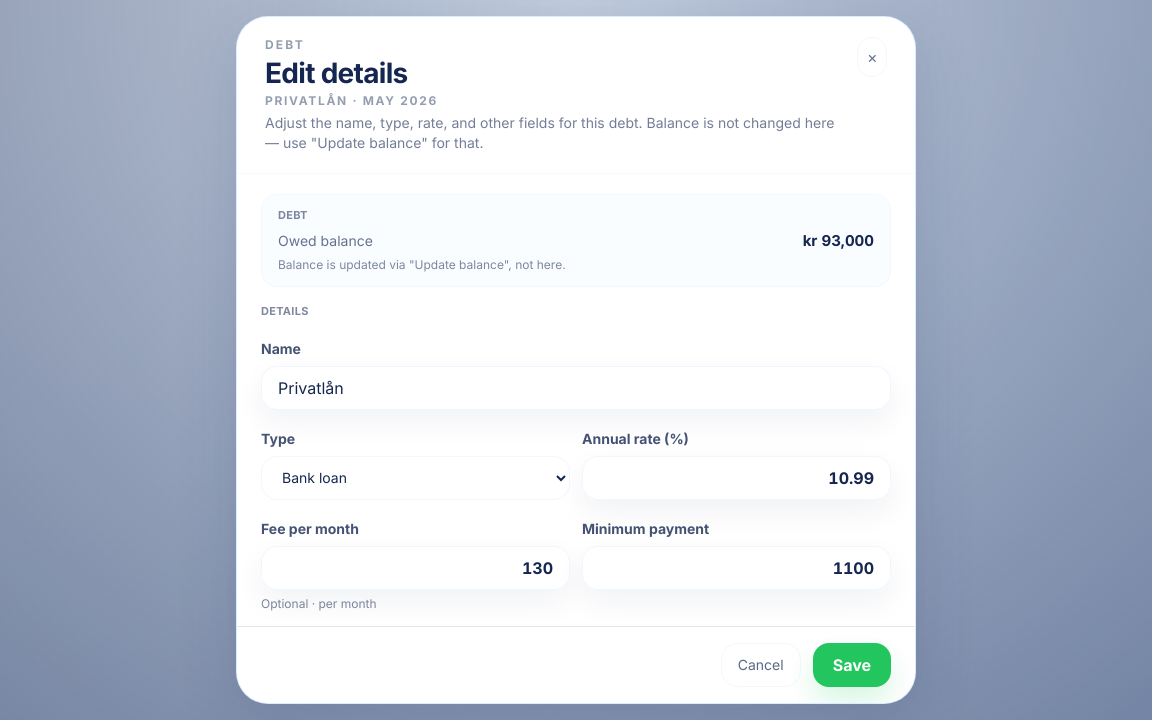
Test: DebtDetailsModal › shows plan-side math under budgetPlanOnly so the preview matches the values that will actually be saved
Replace the text in the field labelled "Annual rate (%)" with "20" at coordinates (736, 478), box [582,456,891,500]
(page scrolled)
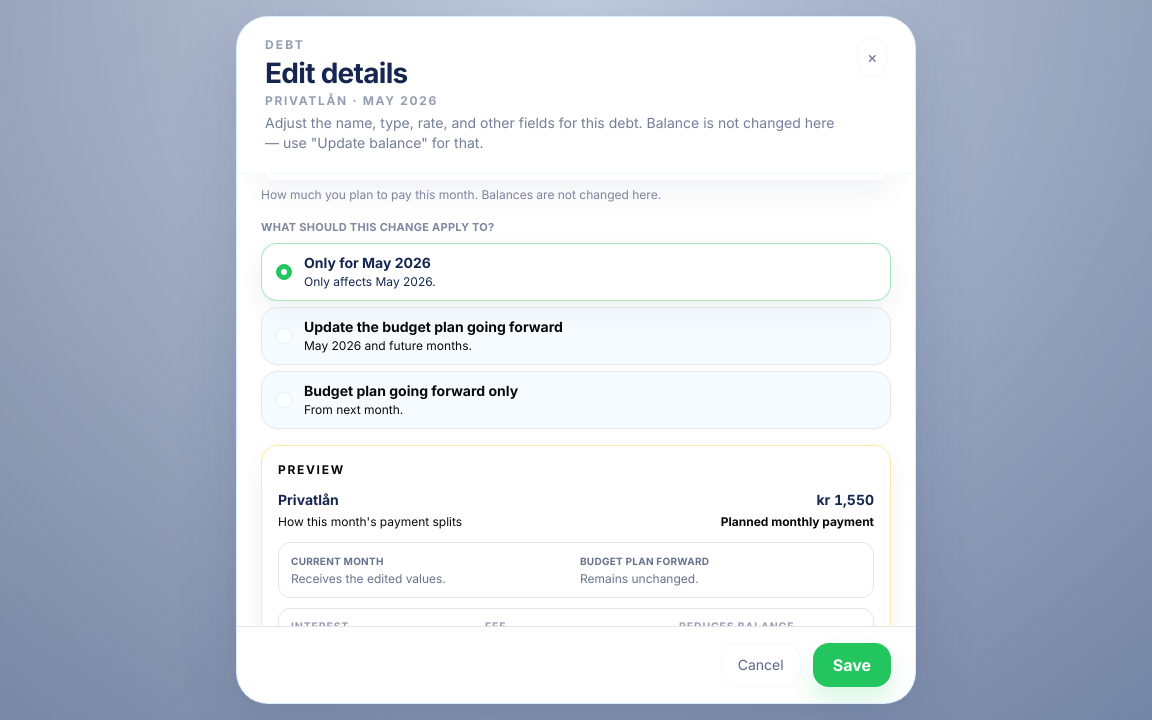
Click the radio button labelled "Budget plan going forward only From next month." at coordinates (411, 390), box [261,371,891,429]
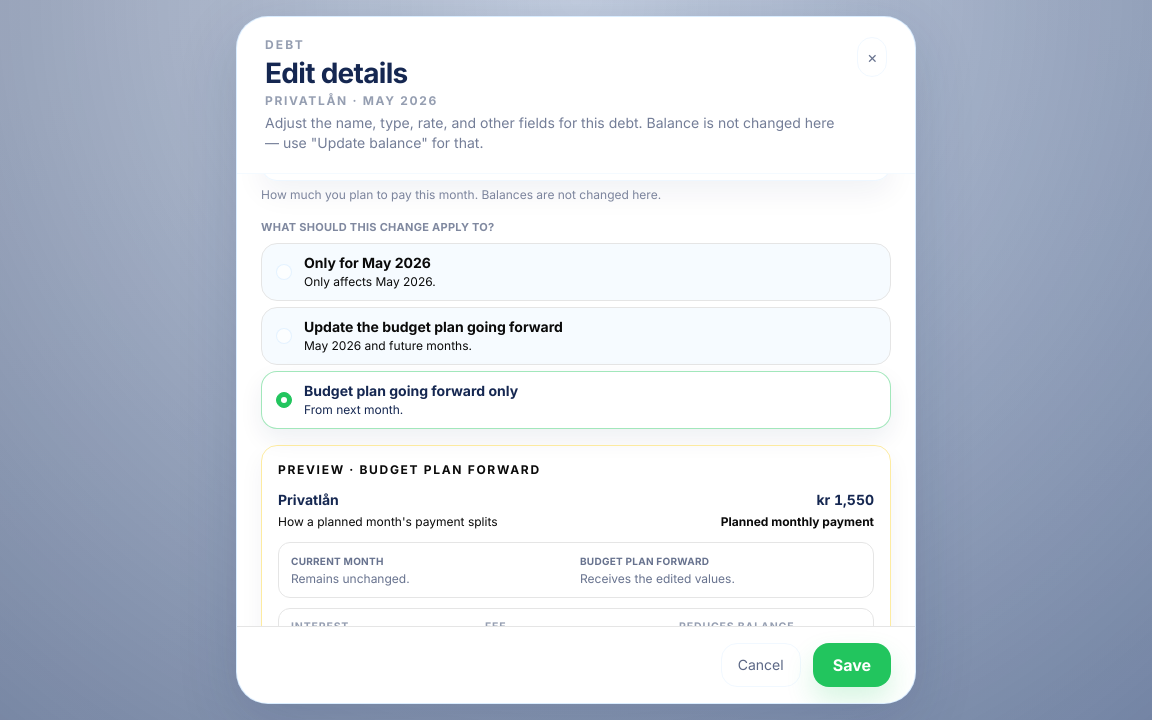
Now the text "How a planned month's payment splits" is shown, box [278,514,498,530]
